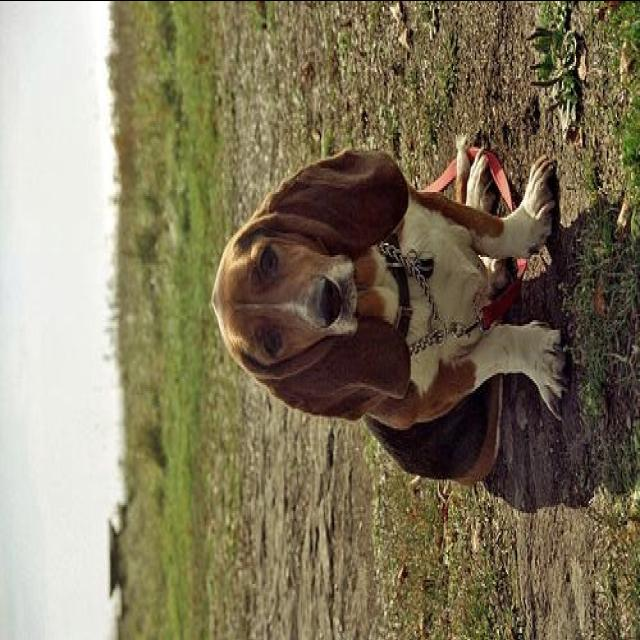basset: (211, 144, 567, 488)
